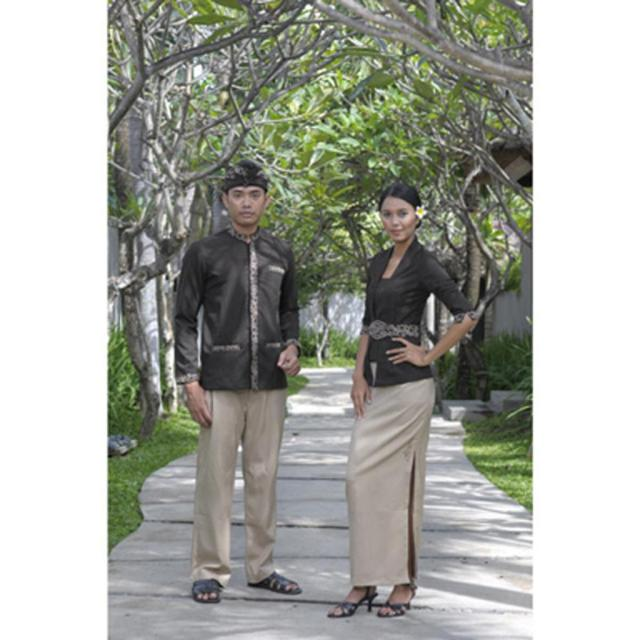nomask: (225, 178, 263, 222), (380, 198, 412, 238)
